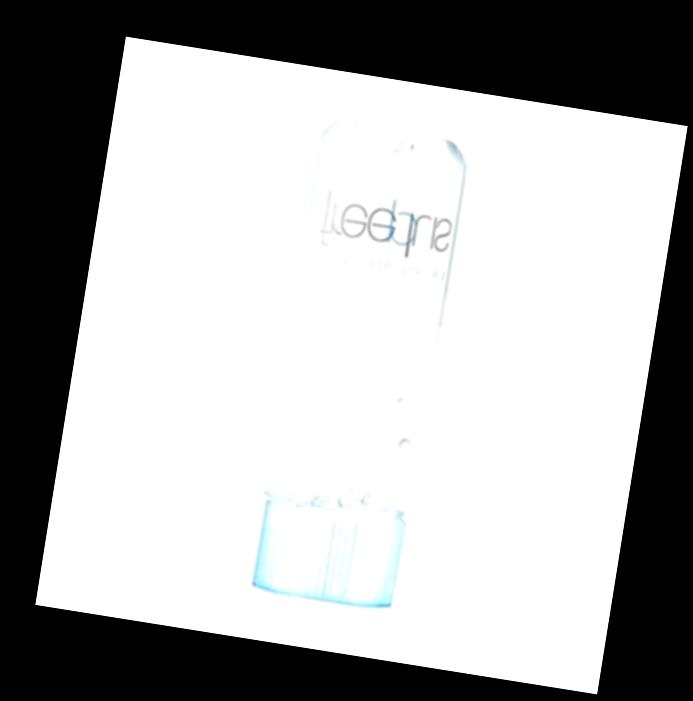cosmetic: (252, 114, 472, 607)
